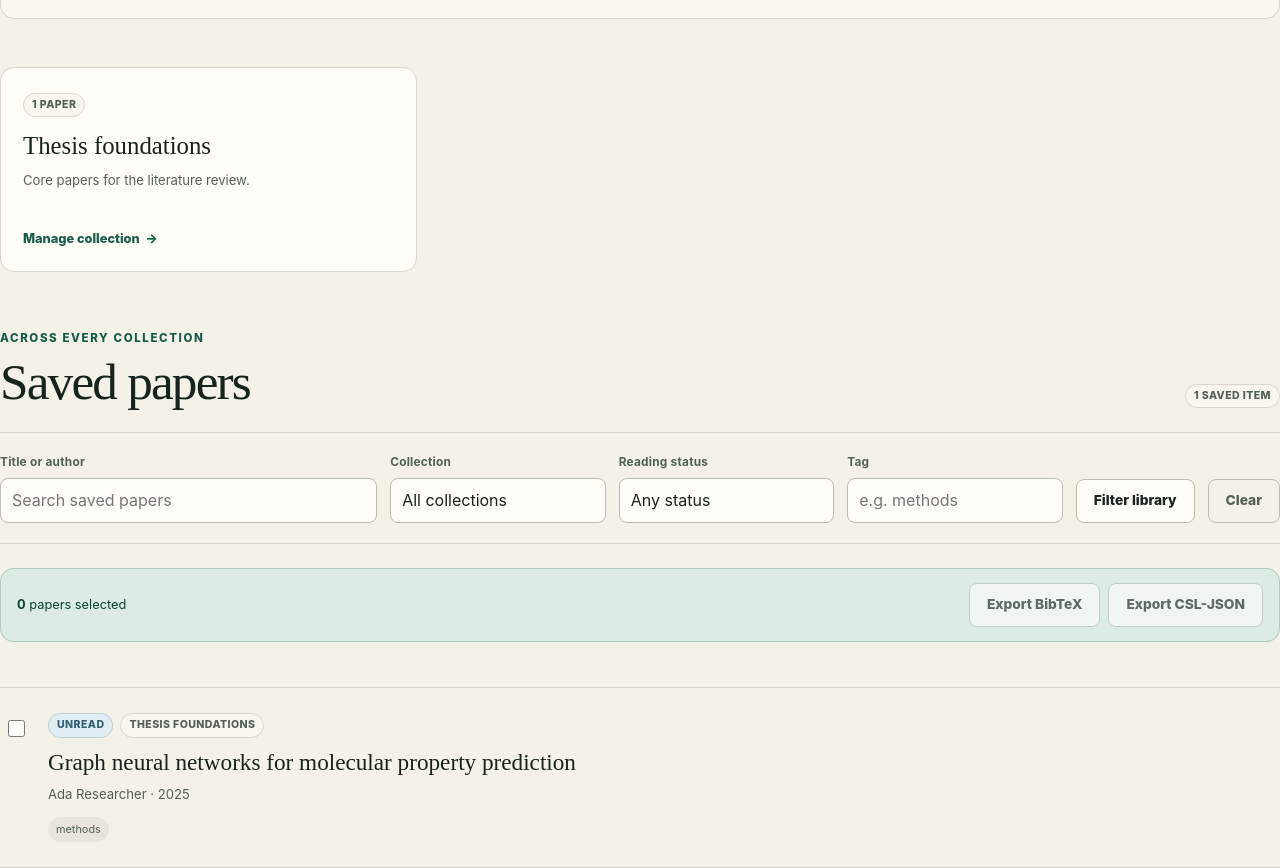
Test case: LibraryDashboard › updates page-zero collection metadata immediately after creation
(page scrolled)
Click the checkbox: (16, 729) [8, 720, 25, 737]
(page scrolled)
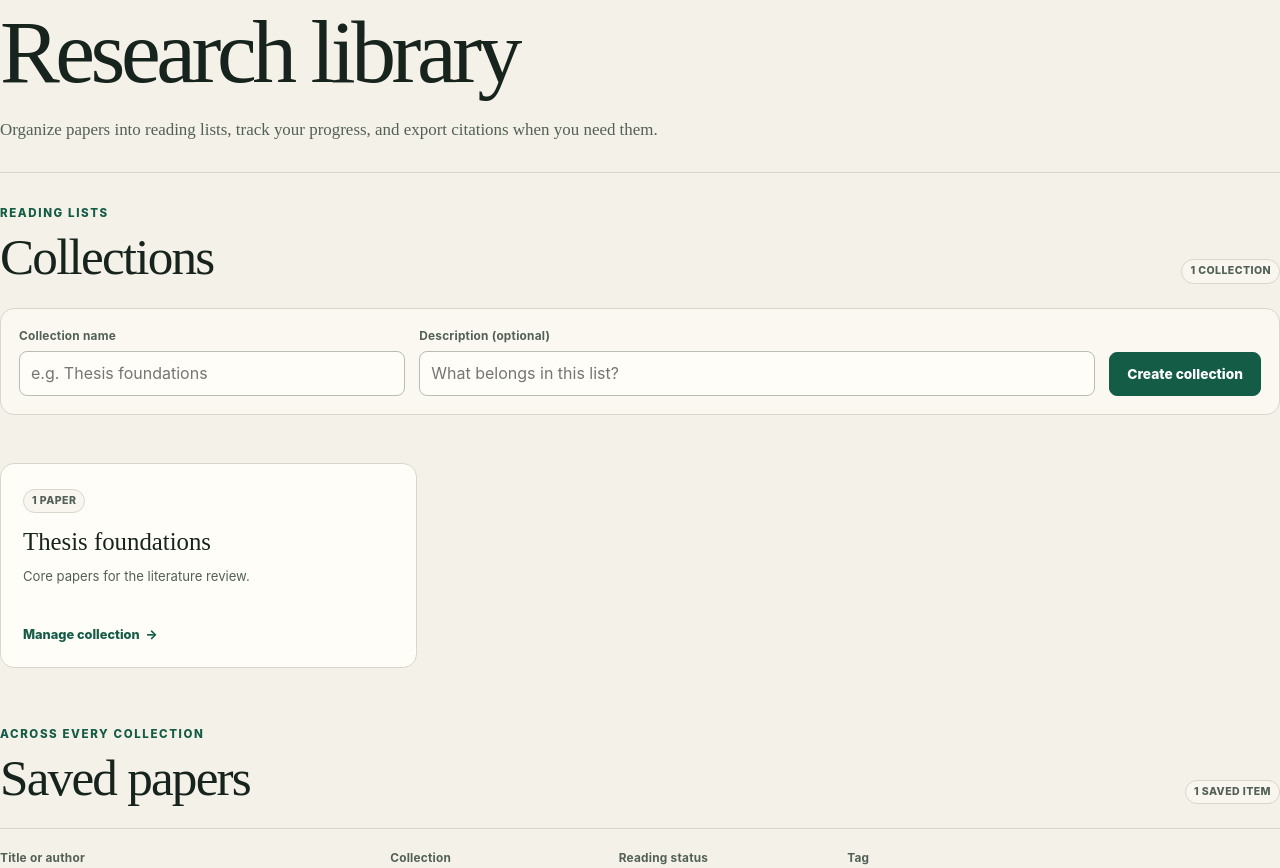
In the field labelled "Collection name": (212, 374) [19, 351, 405, 396], type "New review queue"
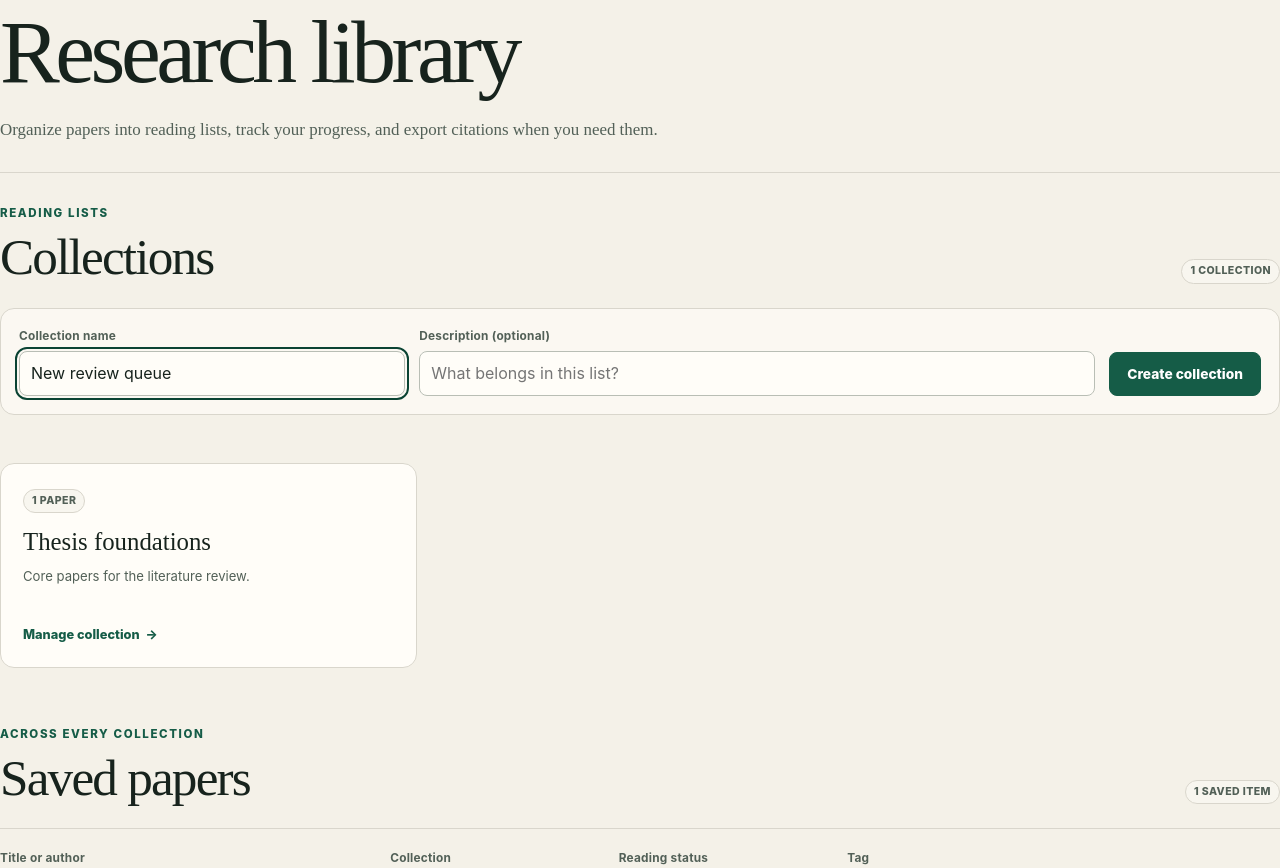
Click the button "Create collection": (1185, 374) [1109, 352, 1261, 396]
(page scrolled)
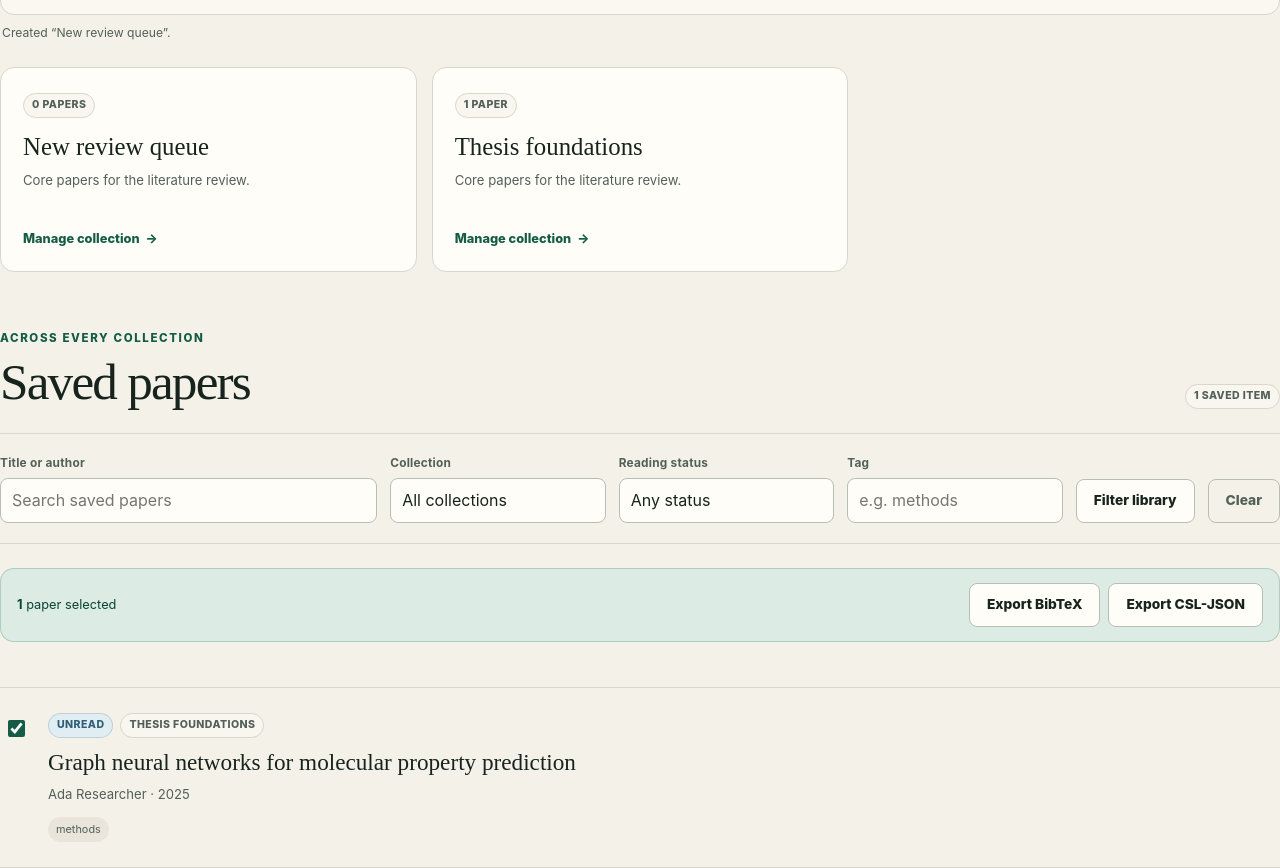
Check: the text "1" is shown, box [17, 597, 22, 612]
Check: the text "Created “New review queue”." is shown, box [2, 25, 170, 40]
Check: the link "New review queue" is shown, box [23, 133, 209, 160]
